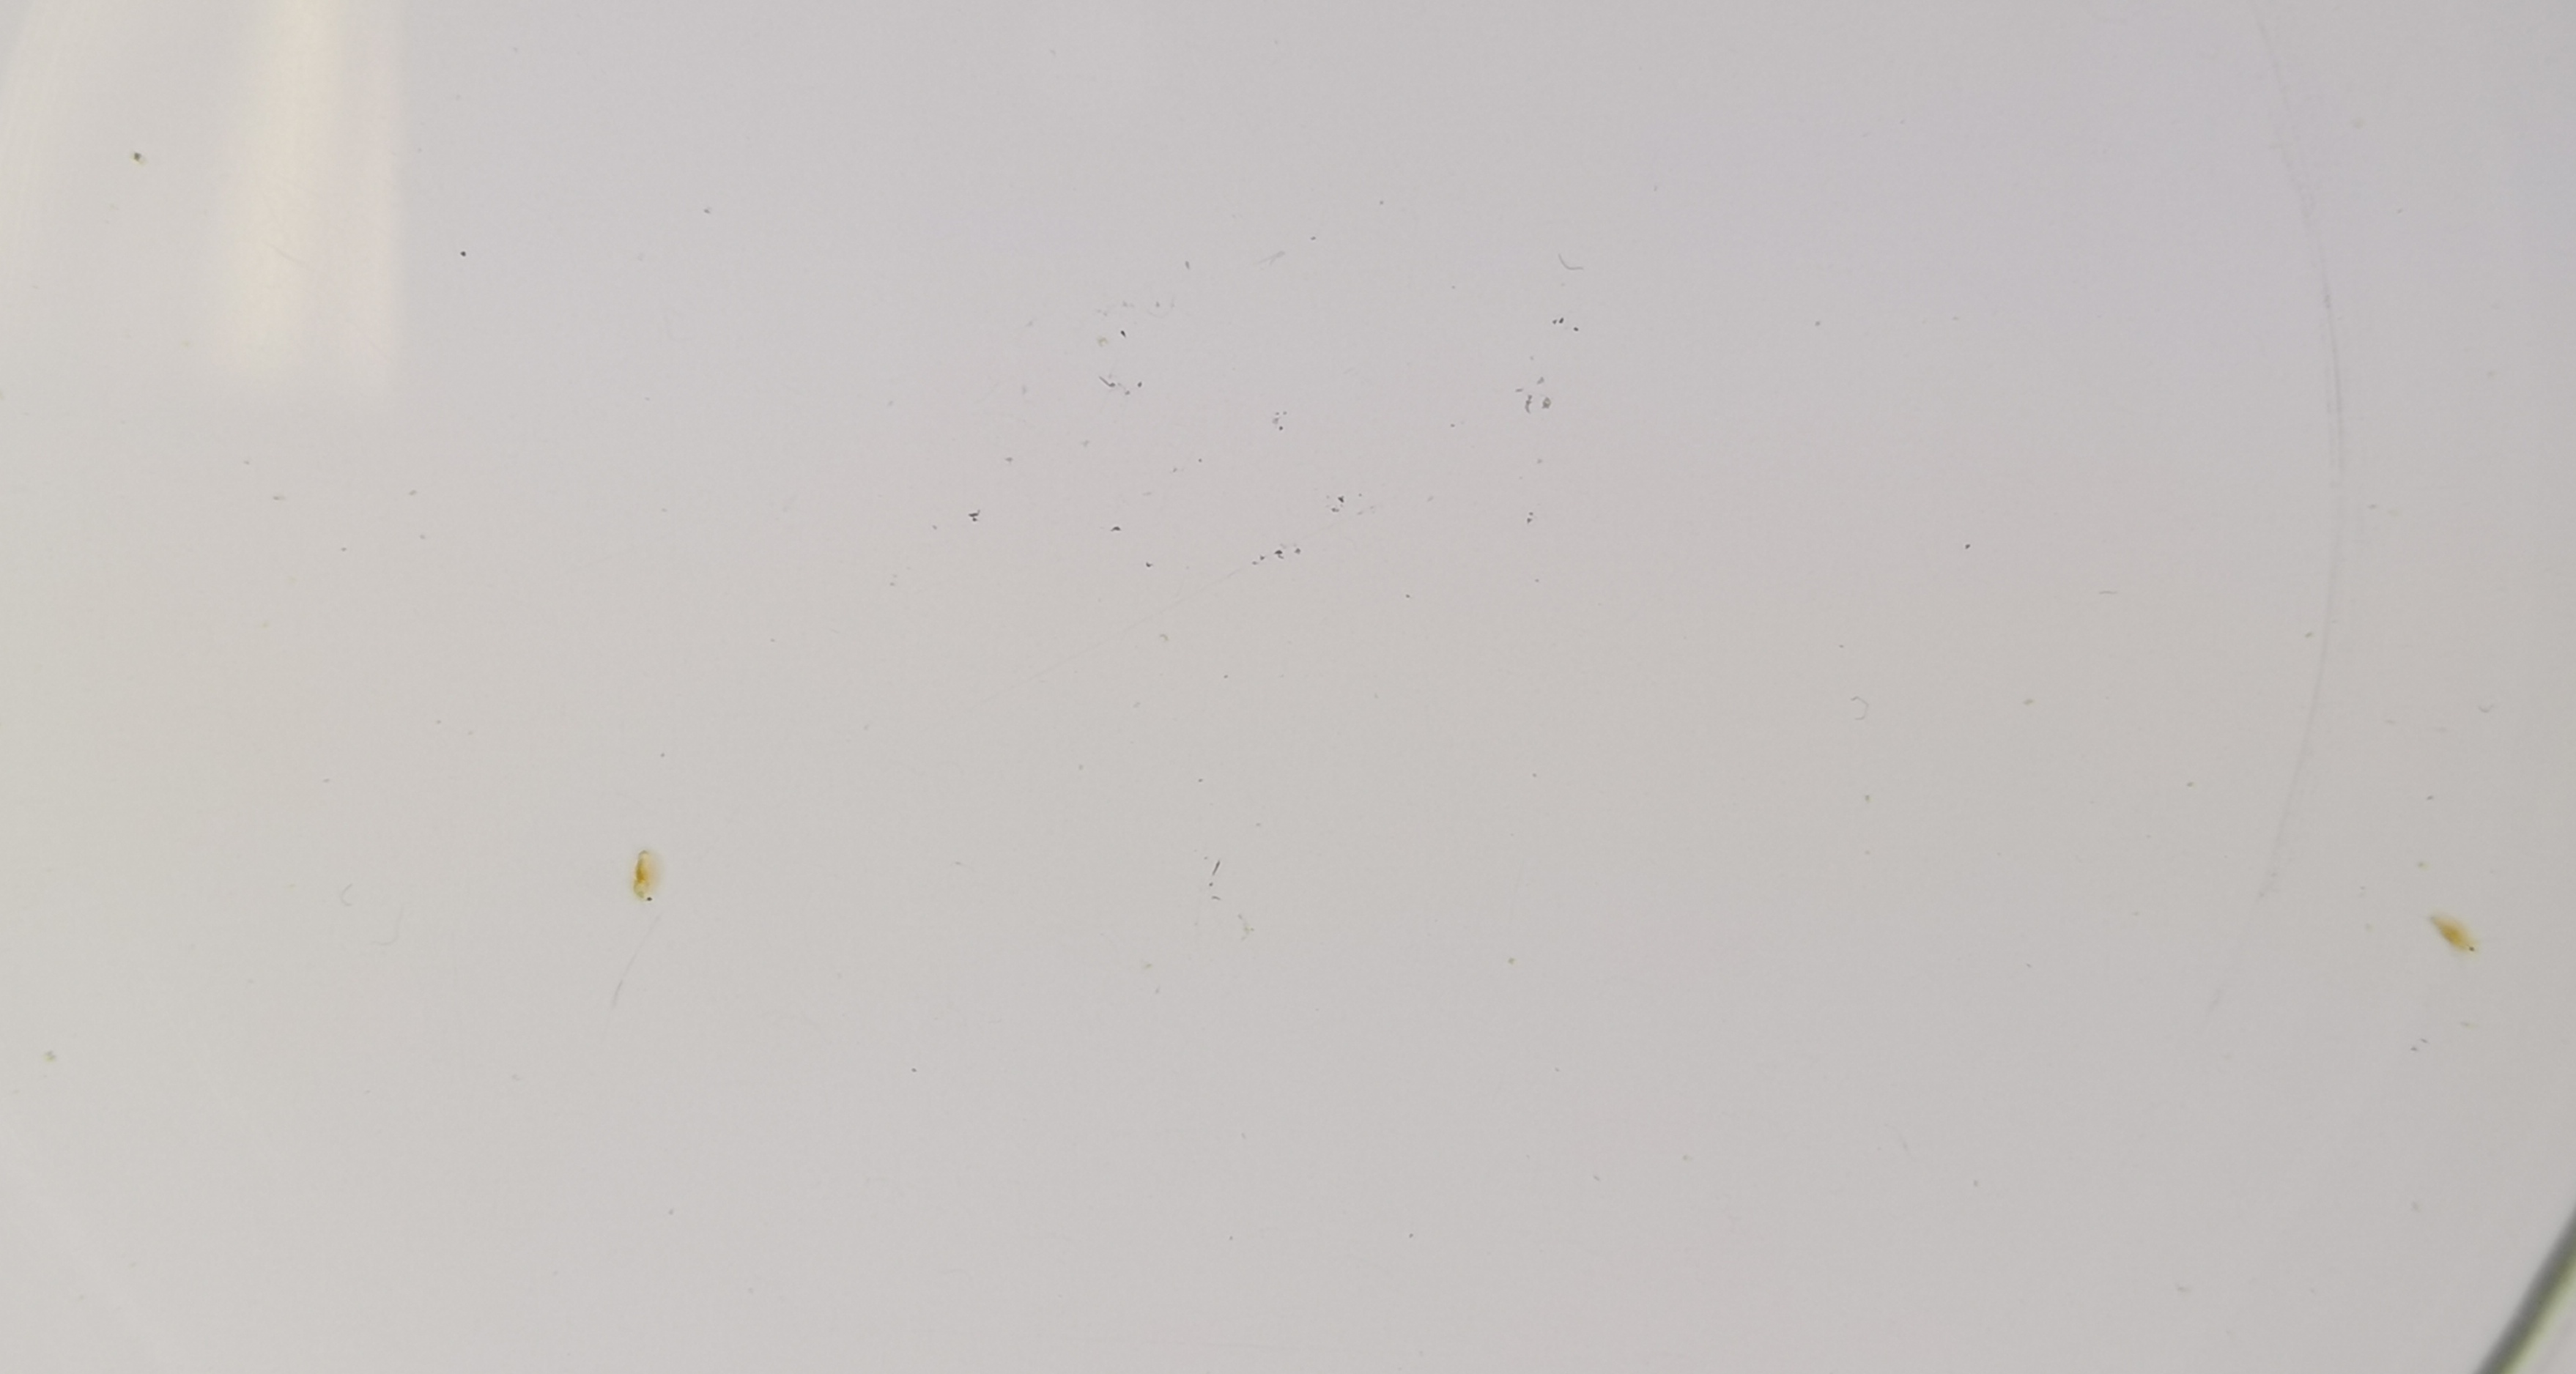D.magna: (2423, 906, 2487, 957), (629, 846, 671, 906)
